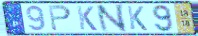9: (151, 4, 174, 33), (25, 4, 47, 33)
K: (75, 5, 99, 32), (126, 5, 149, 32)
N: (95, 3, 129, 34)
P: (47, 4, 73, 33)
